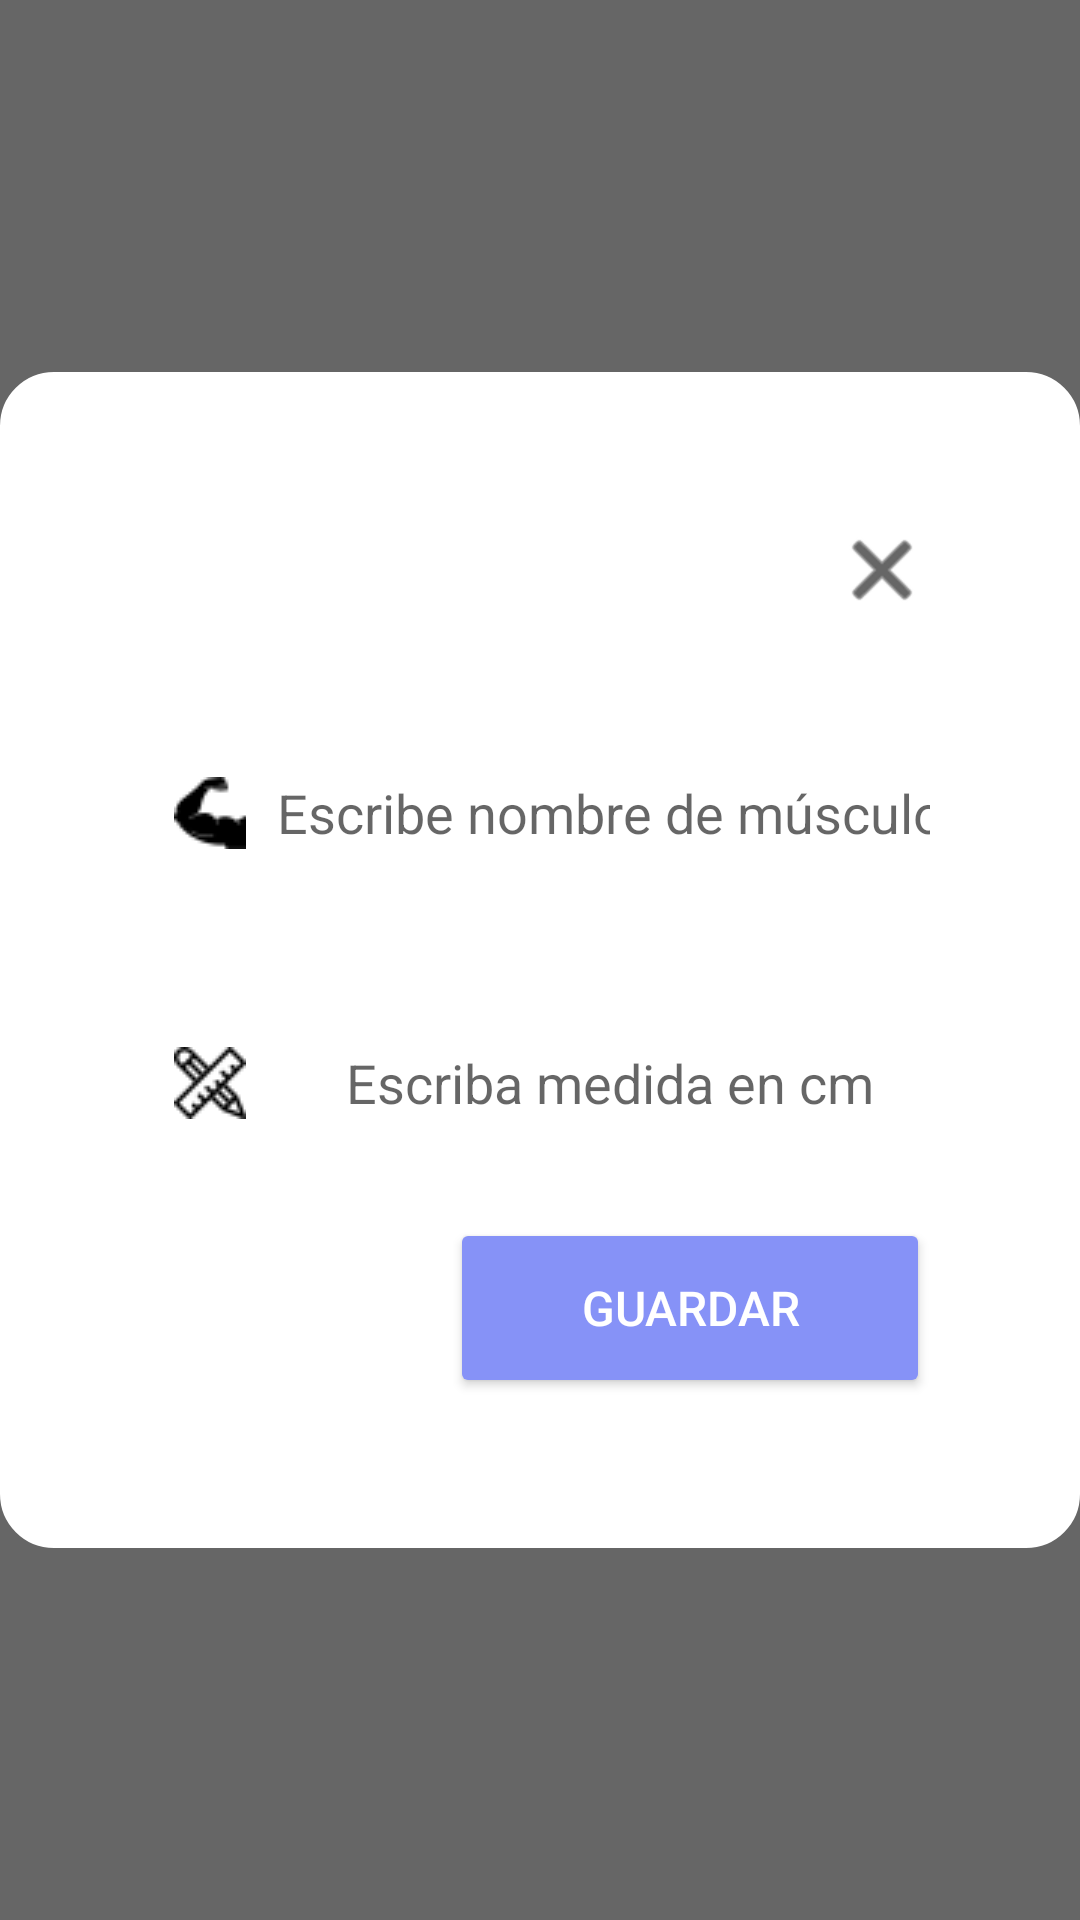

Named icons in this screenshot (1080×1920) and their bounding boxes, (x1, y1, x2, y2):
close clear cancel: (852, 540, 912, 600)
